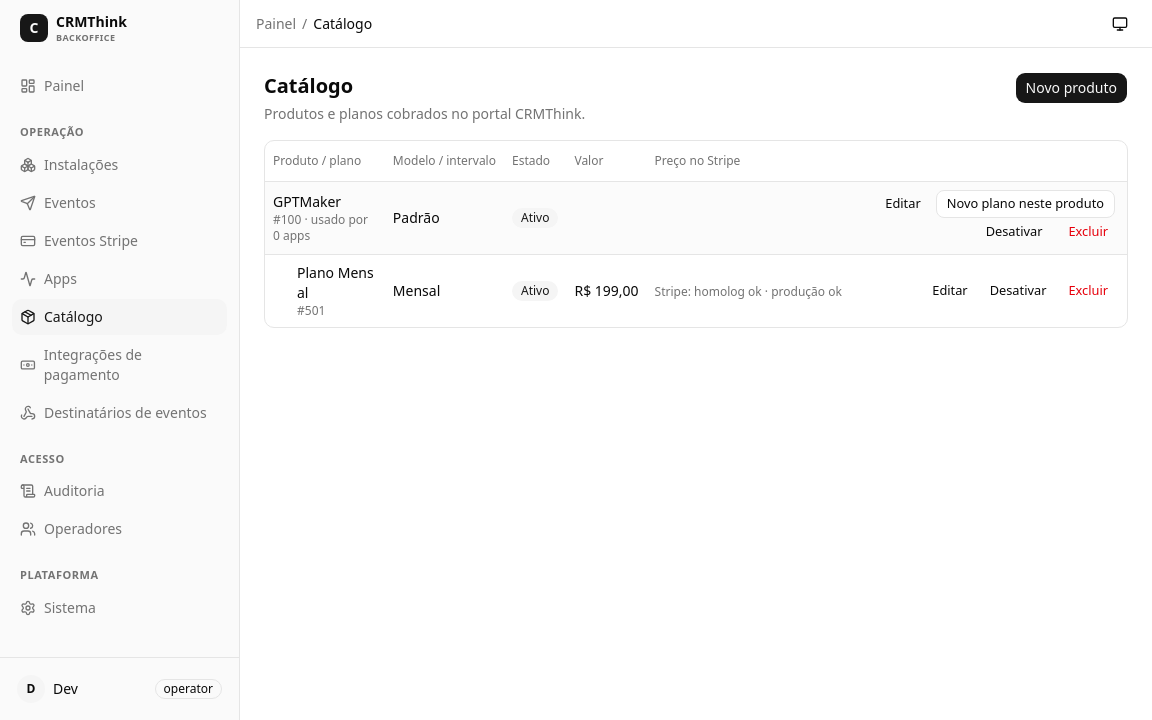
Test: excluir e desativar › Desativar envia PATCH active:false com o motivo
Step 1. Click the button with aria-label "Desativar plano Plano Mensal" → (1018, 290), box [979,276,1058,304]
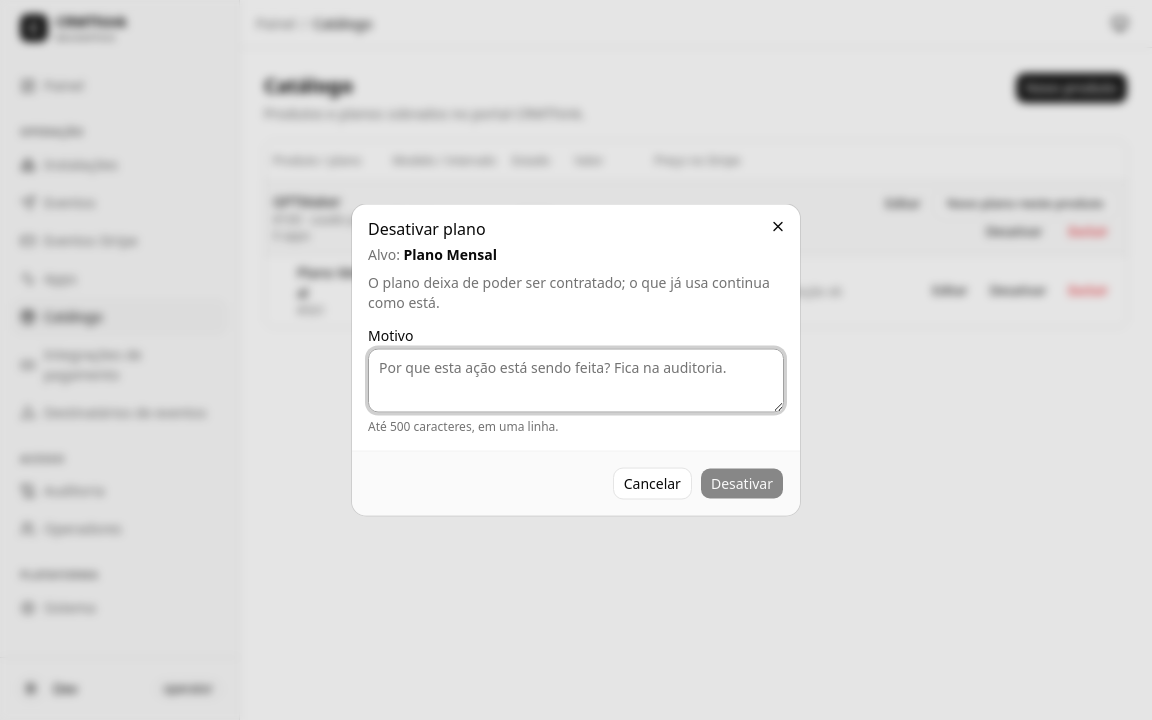
Expected: the button "Desativar" is disabled, [700,468,784,500]
Step 2. Type "Descontinuado" into the text box labelled "Motivo" → (576, 380), box [368,348,784,412]
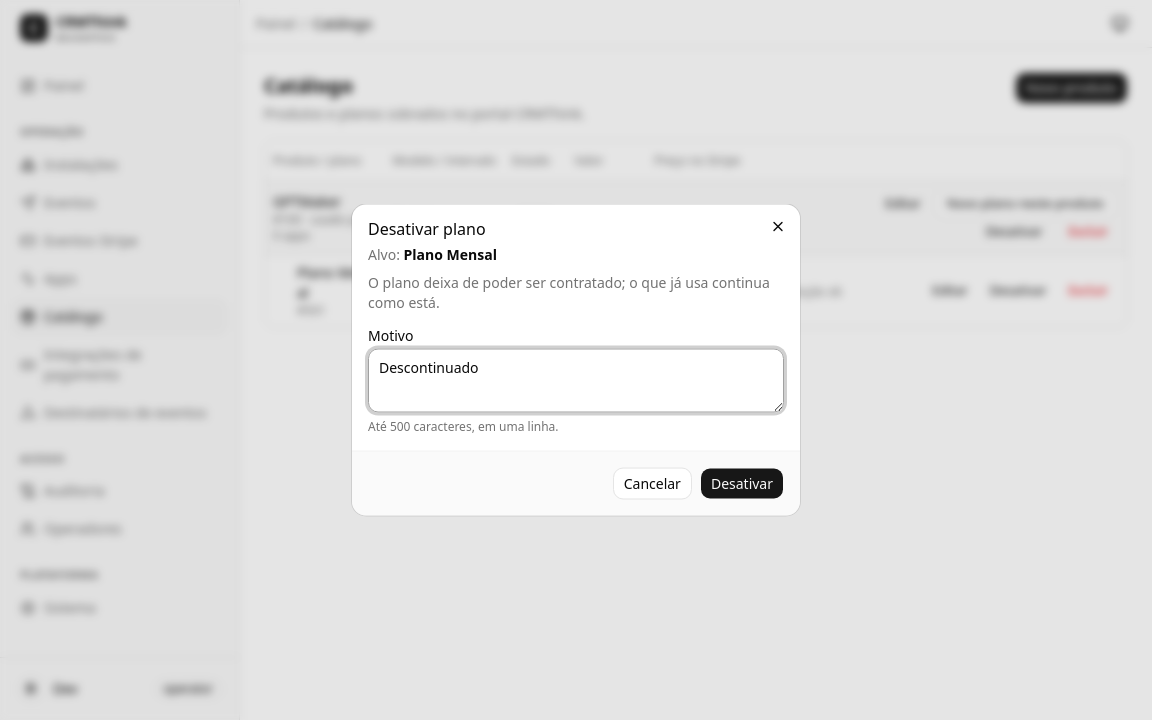
Step 3. Click the button "Desativar" → (742, 484), box [700,468,784,500]
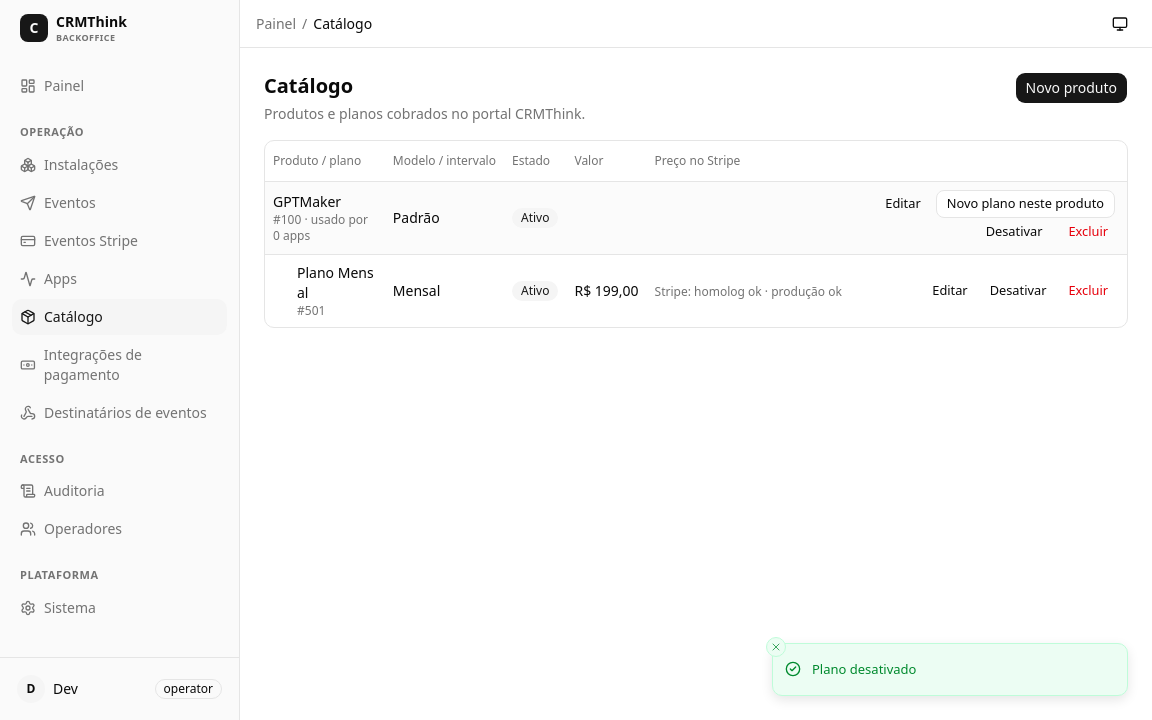
Expected: the dialog is gone
